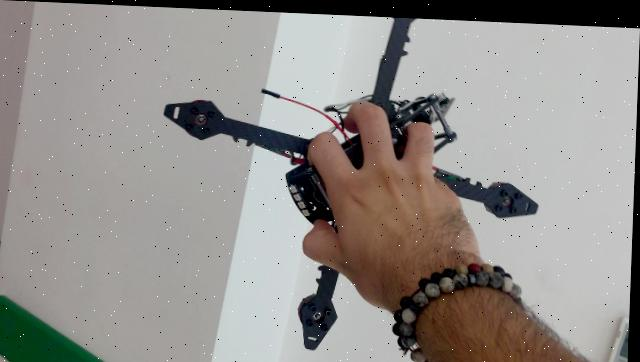drone: (0, 75, 638, 362)
